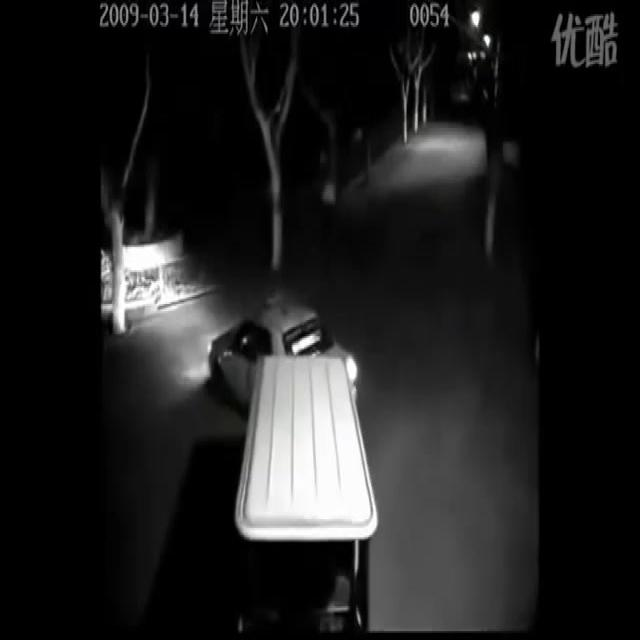moderate: (202, 277, 384, 640)
